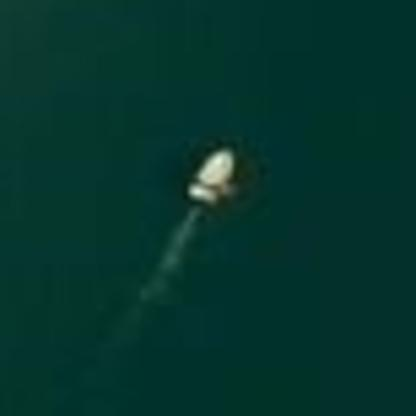ship: (166, 132, 256, 226)
